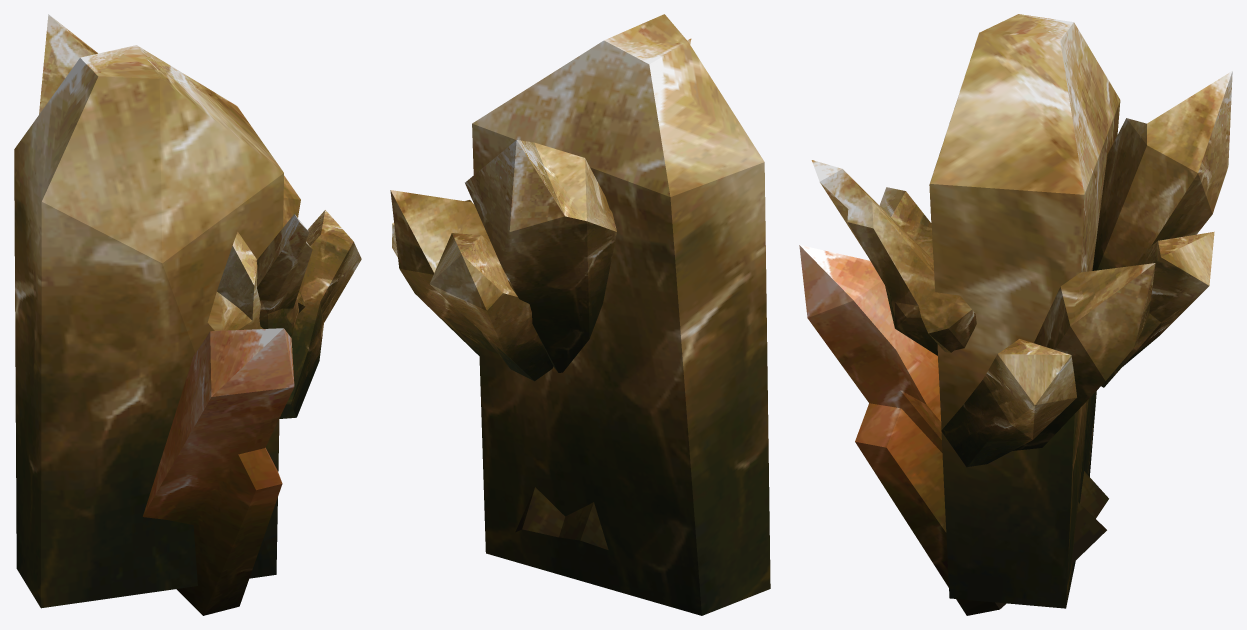
Rendered from environment_stone_shuijing_001_f.FBX.
3 renders of one model, left to right at view 1: azimuth 30°, elevation 25°; view 2: azimuth 150°, elevation 25°; view 3: azimuth 270°, elevation 25°, orthographic. The views are drawn at different scales.
Parts seen in each view (by area): view 1: environment_stone_shuijing_001_f; view 2: environment_stone_shuijing_001_f; view 3: environment_stone_shuijing_001_f.
Boxes of the visible parts, x1,y1,x2,y2 form: environment_stone_shuijing_001_f: [14, 14, 361, 615]; environment_stone_shuijing_001_f: [390, 14, 770, 615]; environment_stone_shuijing_001_f: [799, 14, 1232, 615].
Size of the model in its own units: 178 by 272 by 195.
Materials: 1 (1 with a texture image).
